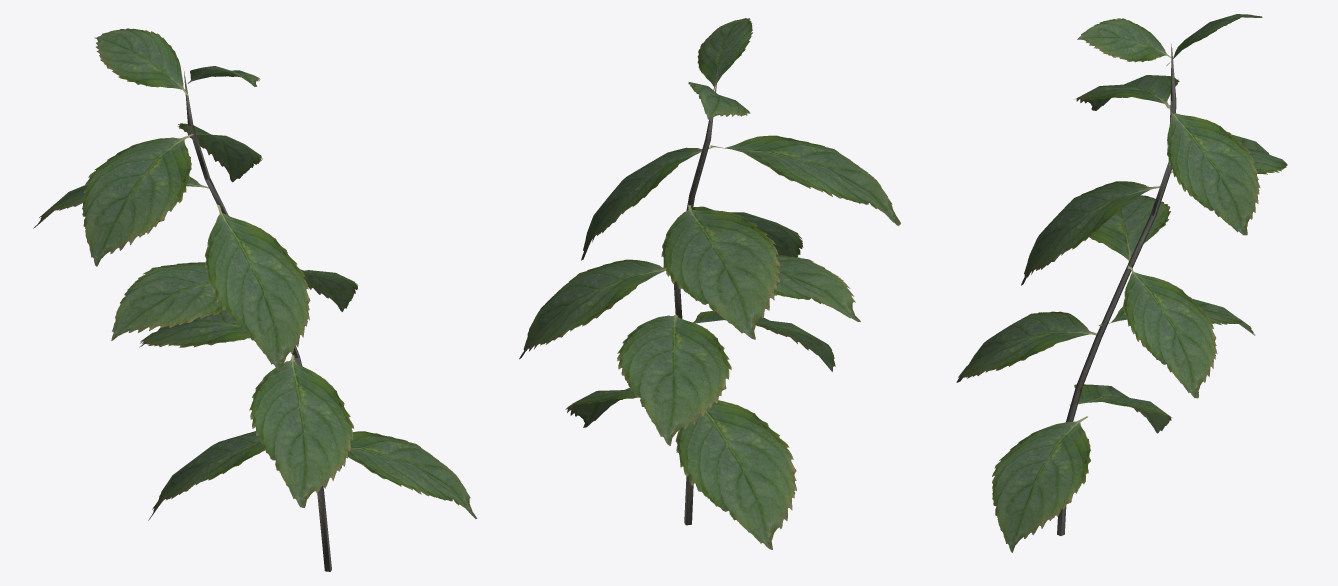
The model's file is SM_KYT_Plant02.fbx.
The picture shows the model from 3 angles, left to right: view 1: azimuth 30°, elevation 25°; view 2: azimuth 150°, elevation 25°; view 3: azimuth 270°, elevation 25°; orthographic projection. The views are drawn at different scales.
Visible parts, largest first — view 1: SM_KYT_Plant02_LOD0; view 2: SM_KYT_Plant02_LOD0; view 3: SM_KYT_Plant02_LOD0.
Boxes of the visible parts, box(x1,y1,x2,y2) form: SM_KYT_Plant02_LOD0: box(33, 28, 477, 571); SM_KYT_Plant02_LOD0: box(519, 18, 900, 549); SM_KYT_Plant02_LOD0: box(956, 14, 1287, 552).
Size of the model in its own units: 59.22 by 54.08 by 74.
2 materials, 2 textured.
